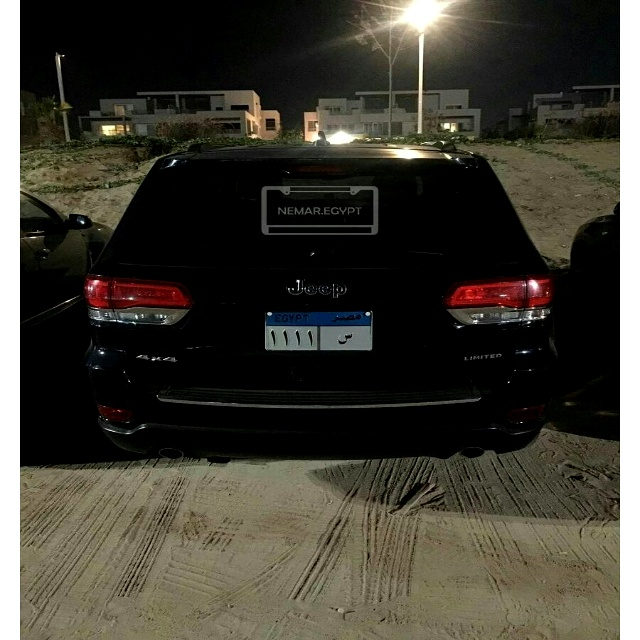License Plate: (261, 307, 376, 356)
